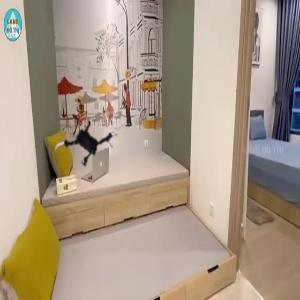drone: (53, 109, 126, 182)
